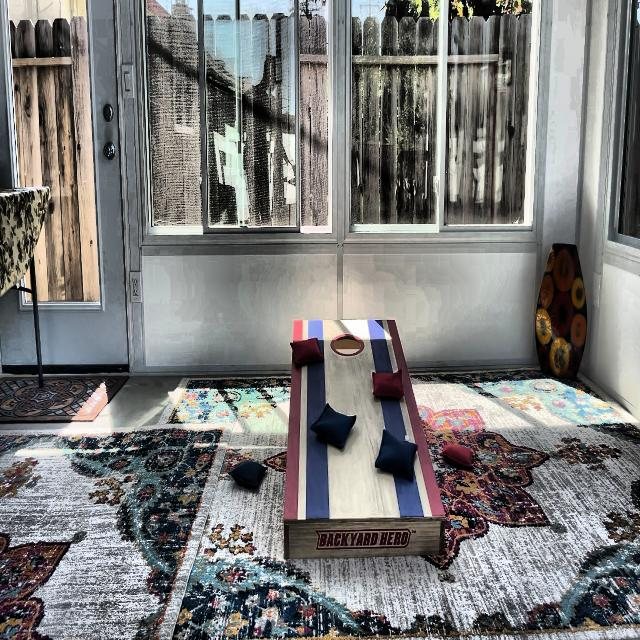blue-bean-bag: (310, 401, 357, 452), (375, 428, 418, 482), (229, 459, 267, 489)
board: (291, 318, 410, 521)
hole: (329, 332, 365, 357)
red-bean-bag: (290, 335, 324, 367), (441, 443, 474, 470), (372, 371, 404, 398)
